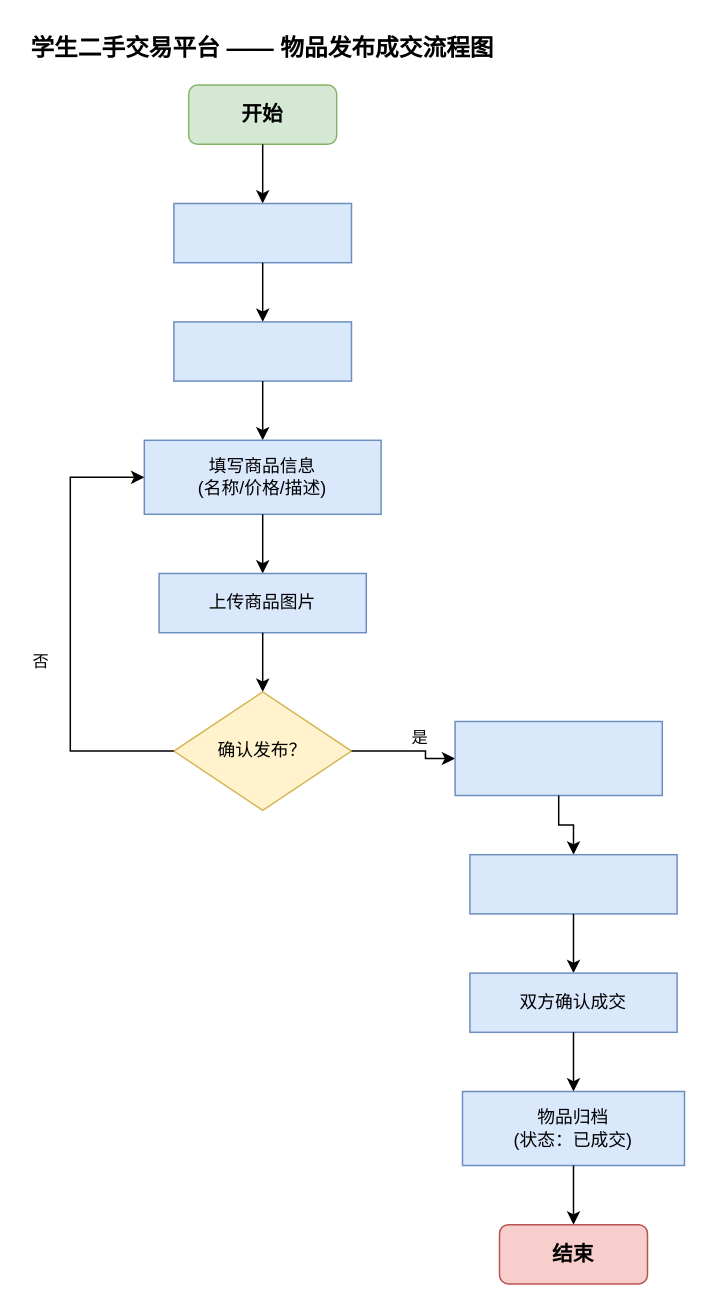
Image size: 710x1310. Some labels were removed from this diagram. Here are the shapes that lost their labels. From the top down, the centre of each, then its label:
[262,232]: 用户登录
[262,350]: 发布物品
[558,758]: 保存至数据库 (状态：发布中)
[572,883]: 买家浏览/下单
